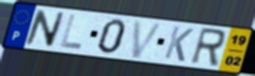0: (96, 18, 128, 56)
K: (162, 25, 196, 63)
L: (58, 13, 84, 51)
N: (23, 8, 67, 49)
R: (188, 26, 228, 69)
V: (130, 19, 166, 60)
